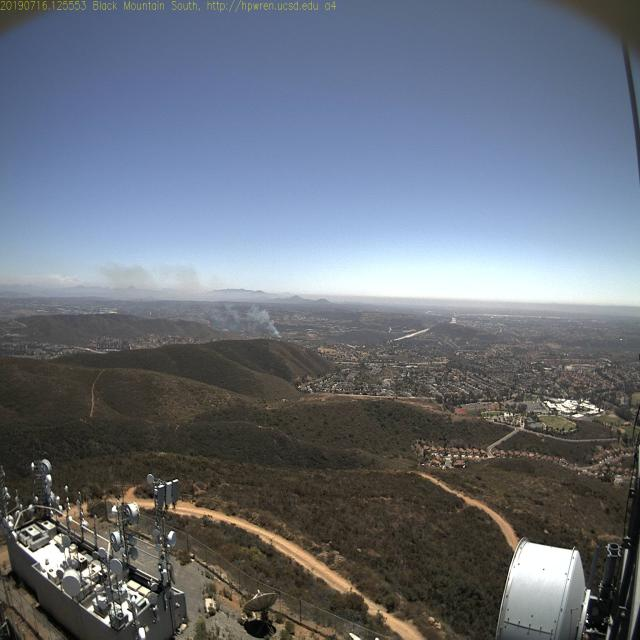smoke: (242, 303, 300, 361)
